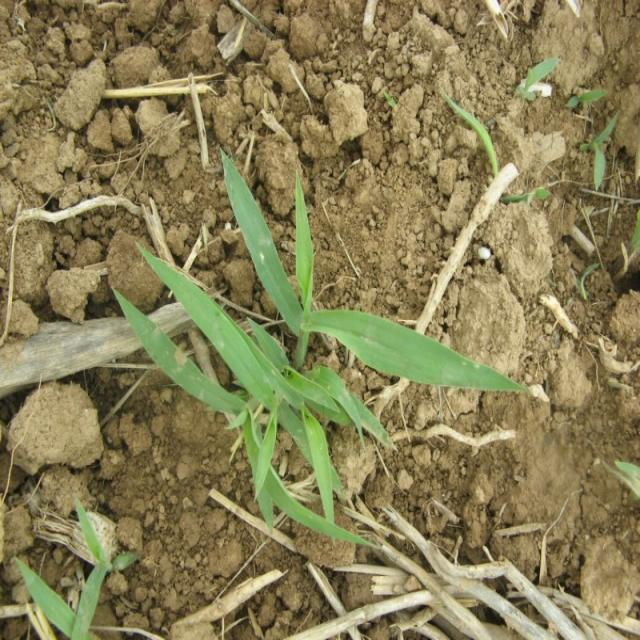bg: (114, 151, 525, 536)
